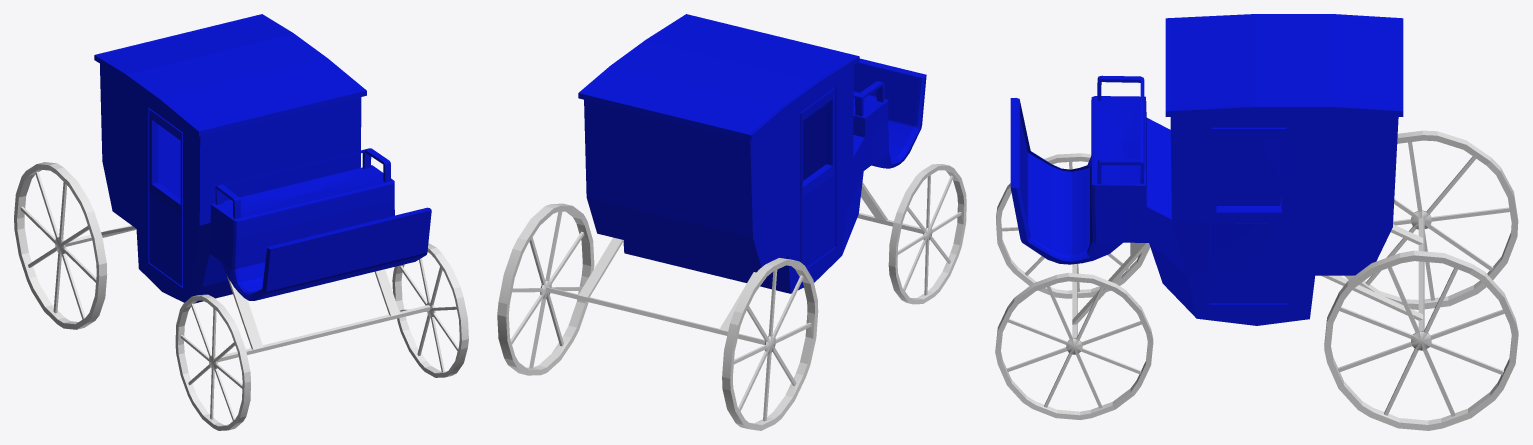
Rendered from Coach.fbx.
The picture shows the model from 3 angles, left to right: view 1: azimuth 30°, elevation 25°; view 2: azimuth 150°, elevation 25°; view 3: azimuth 270°, elevation 25°; orthographic projection. The views are drawn at different scales.
Parts seen in each view (by area): view 1: carrige_fixed; view 2: carrige_fixed; view 3: carrige_fixed.
Boxes of the visible parts, x1,y1,x2,y2 form: carrige_fixed: [14, 14, 468, 430]; carrige_fixed: [497, 14, 966, 430]; carrige_fixed: [995, 14, 1518, 430].
Bounding box in the file's own units: 29546 × 33922 × 52139.
